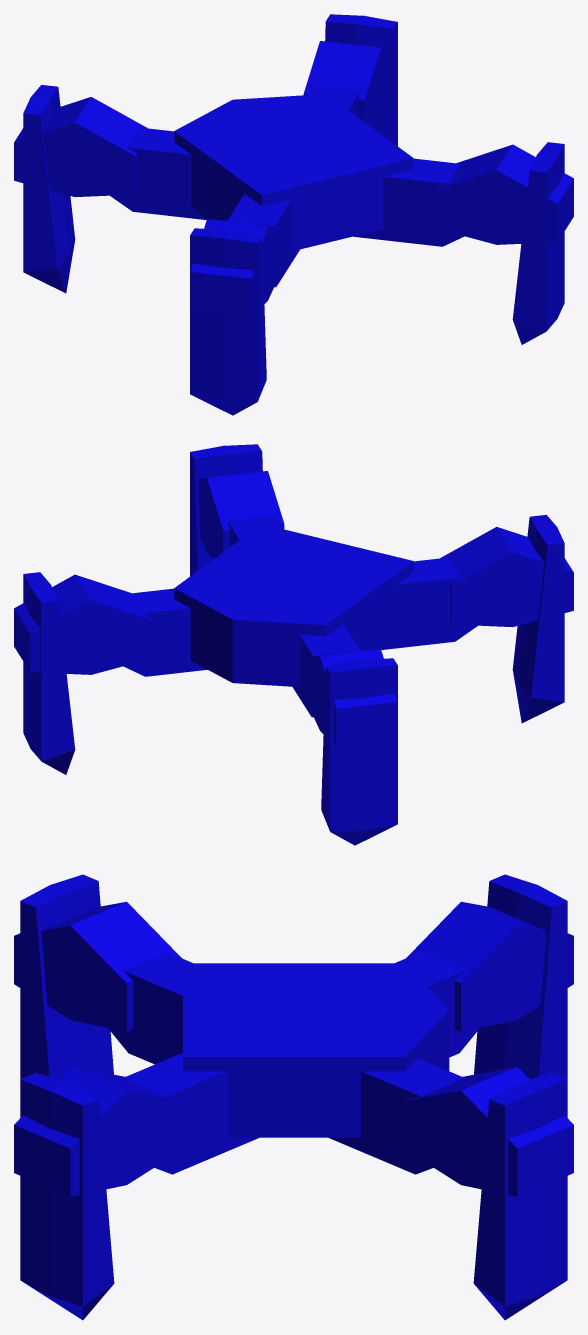
File: Robot.glb
3 views of the same model, one above another, from view 1: azimuth 30°, elevation 25°; view 2: azimuth 150°, elevation 25°; view 3: azimuth 270°, elevation 25° (orthographic). The views are drawn at different scales.
Visible parts, largest first — view 1: Body, Foot.002, Calf.001, Calf.003, Foot.003, Foot.001, Thigh.001, Calf.002, Thigh.003, Calf, Foot, Thigh.002 (+1 smaller); view 2: Body, Foot.003, Calf, Calf.002, Foot.002, Foot, Calf.003, Thigh.002, Calf.001, Thigh, Foot.001, Thigh.003 (+1 smaller); view 3: Body, Foot, Foot.001, Calf, Calf.001, Calf.002, Calf.003, Foot.002, Foot.003, Thigh.001, Thigh, Thigh.002 (+1 smaller).
Boxes of the visible parts, <box> form: Body: <box>174,94,413,251</box>; Foot.002: <box>190,228,266,415</box>; Calf.001: <box>435,144,573,244</box>; Calf.003: <box>14,97,147,197</box>; Foot.003: <box>23,84,75,293</box>; Foot.001: <box>512,142,564,344</box>; Thigh.001: <box>353,158,464,246</box>; Calf.002: <box>190,219,284,316</box>; Thigh.003: <box>110,127,206,219</box>; Calf: <box>303,41,389,128</box>; Foot: <box>325,14,397,146</box>; Thigh.002: <box>227,194,299,287</box>; Body: <box>174,524,413,686</box>; Foot.003: <box>321,658,397,845</box>; Calf: <box>14,574,152,674</box>; Calf.002: <box>440,527,573,627</box>; Foot.002: <box>512,514,564,723</box>; Foot: <box>23,572,75,774</box>; Calf.003: <box>303,649,397,746</box>; Thigh.002: <box>380,557,477,649</box>; Calf.001: <box>198,471,284,558</box>; Thigh: <box>123,588,207,676</box>; Foot.001: <box>190,444,262,576</box>; Thigh.003: <box>292,624,360,717</box>; Body: <box>183,963,449,1137</box>; Foot: <box>473,1072,567,1320</box>; Foot.001: <box>20,1072,114,1320</box>; Calf: <box>404,1066,573,1196</box>; Calf.001: <box>14,1066,183,1196</box>; Calf.002: <box>14,901,181,1031</box>; Calf.003: <box>406,901,573,1031</box>; Foot.002: <box>20,874,113,1079</box>; Foot.003: <box>474,874,567,1079</box>; Thigh.001: <box>123,1053,259,1174</box>; Thigh: <box>328,1058,464,1174</box>; Thigh.002: <box>108,952,192,1064</box>.
Size of the model in its own units: 0.2524 by 0.121 by 0.2524.
